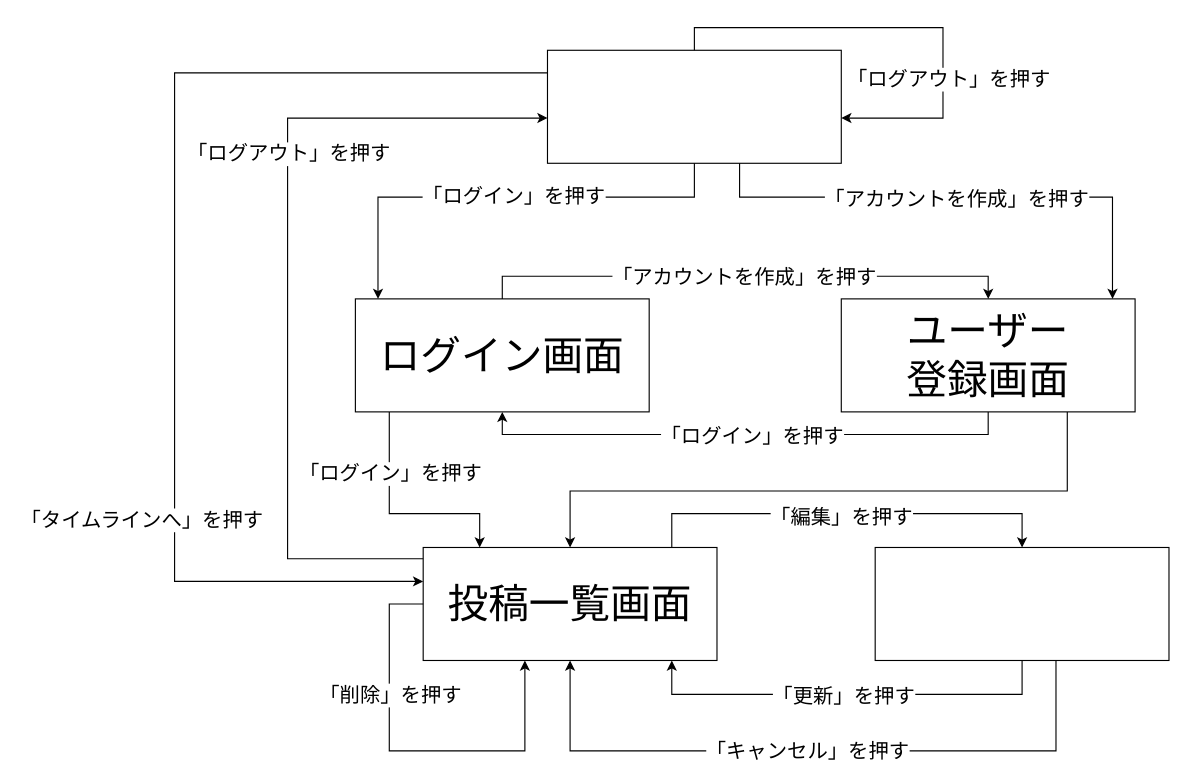
Image size: 1189x783. Some labels were removed from this diagram. Each missing label, with the centre of its shape:
トップ画面: (693,106)
投稿編集画面: (1021,603)
